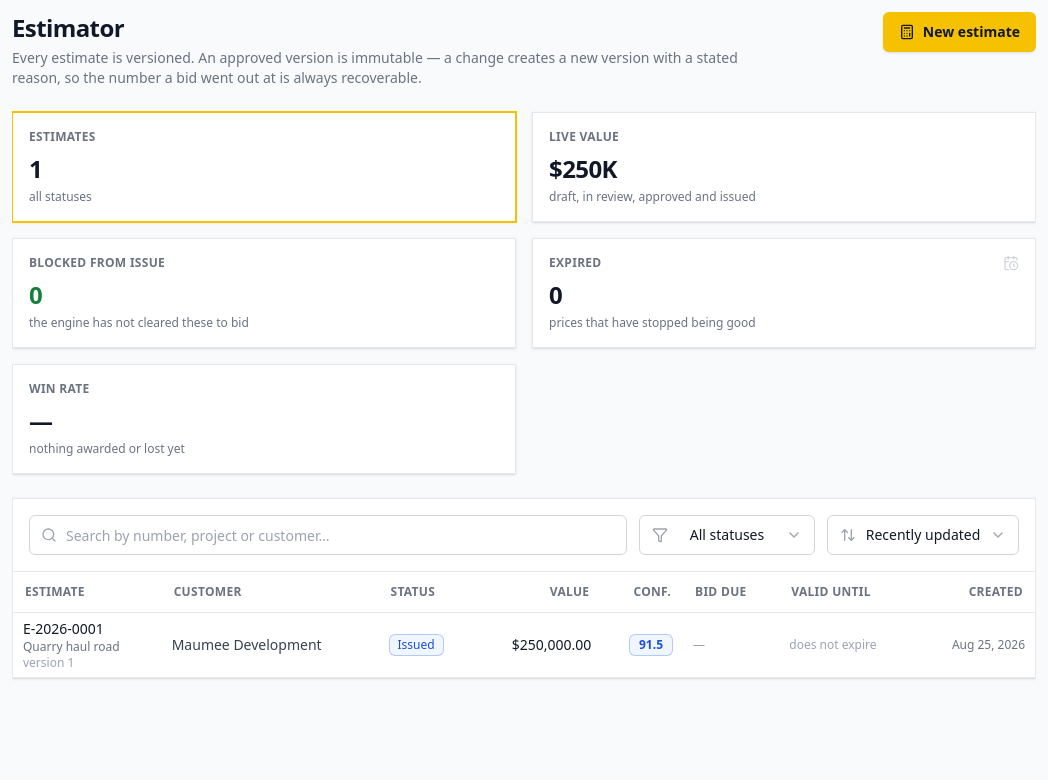
Test: the estimating screen › the boxes across the top › responds even when it counts nothing, and says the list is empty
The width and height of the screenshot is (1048, 780).
Expected: the link "E-2026-0001" is shown, x1=23 y1=618 x2=104 y2=638
Click the button with aria-label "show the estimates the engine has blocked" at point(97, 262), box x1=12 y1=238 x2=516 y2=348
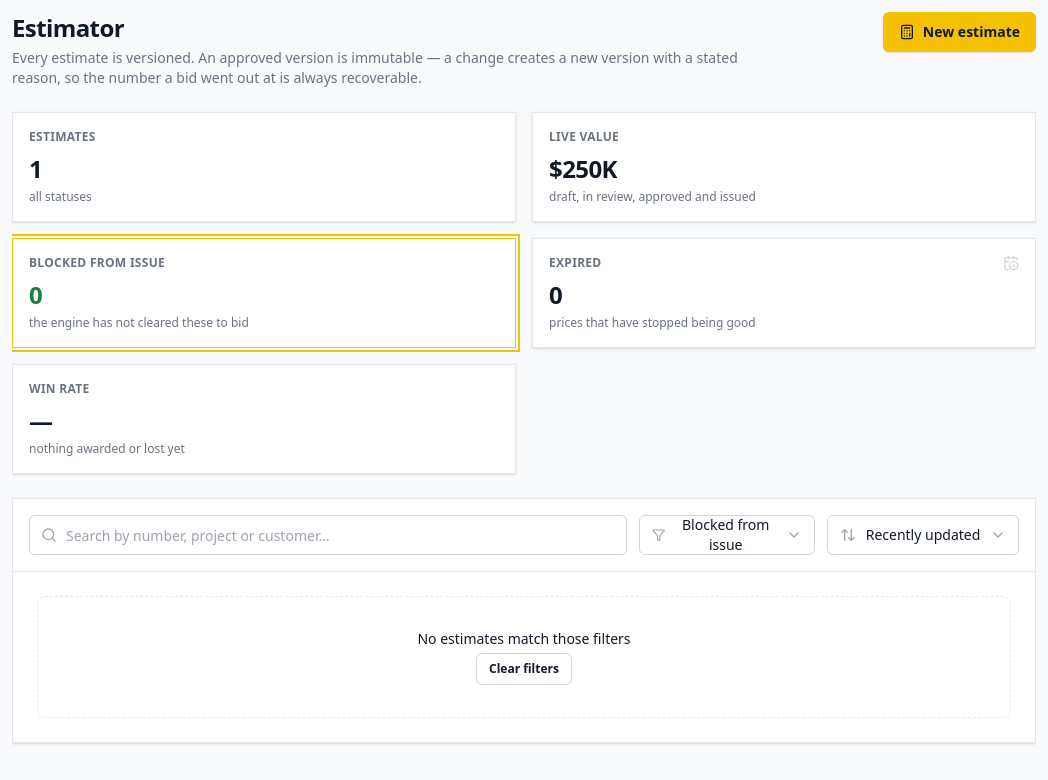
Now the text "No estimates match those filters" is shown, box x1=417 y1=629 x2=631 y2=648
Now the button "Clear filters" is shown, box x1=476 y1=653 x2=572 y2=685
